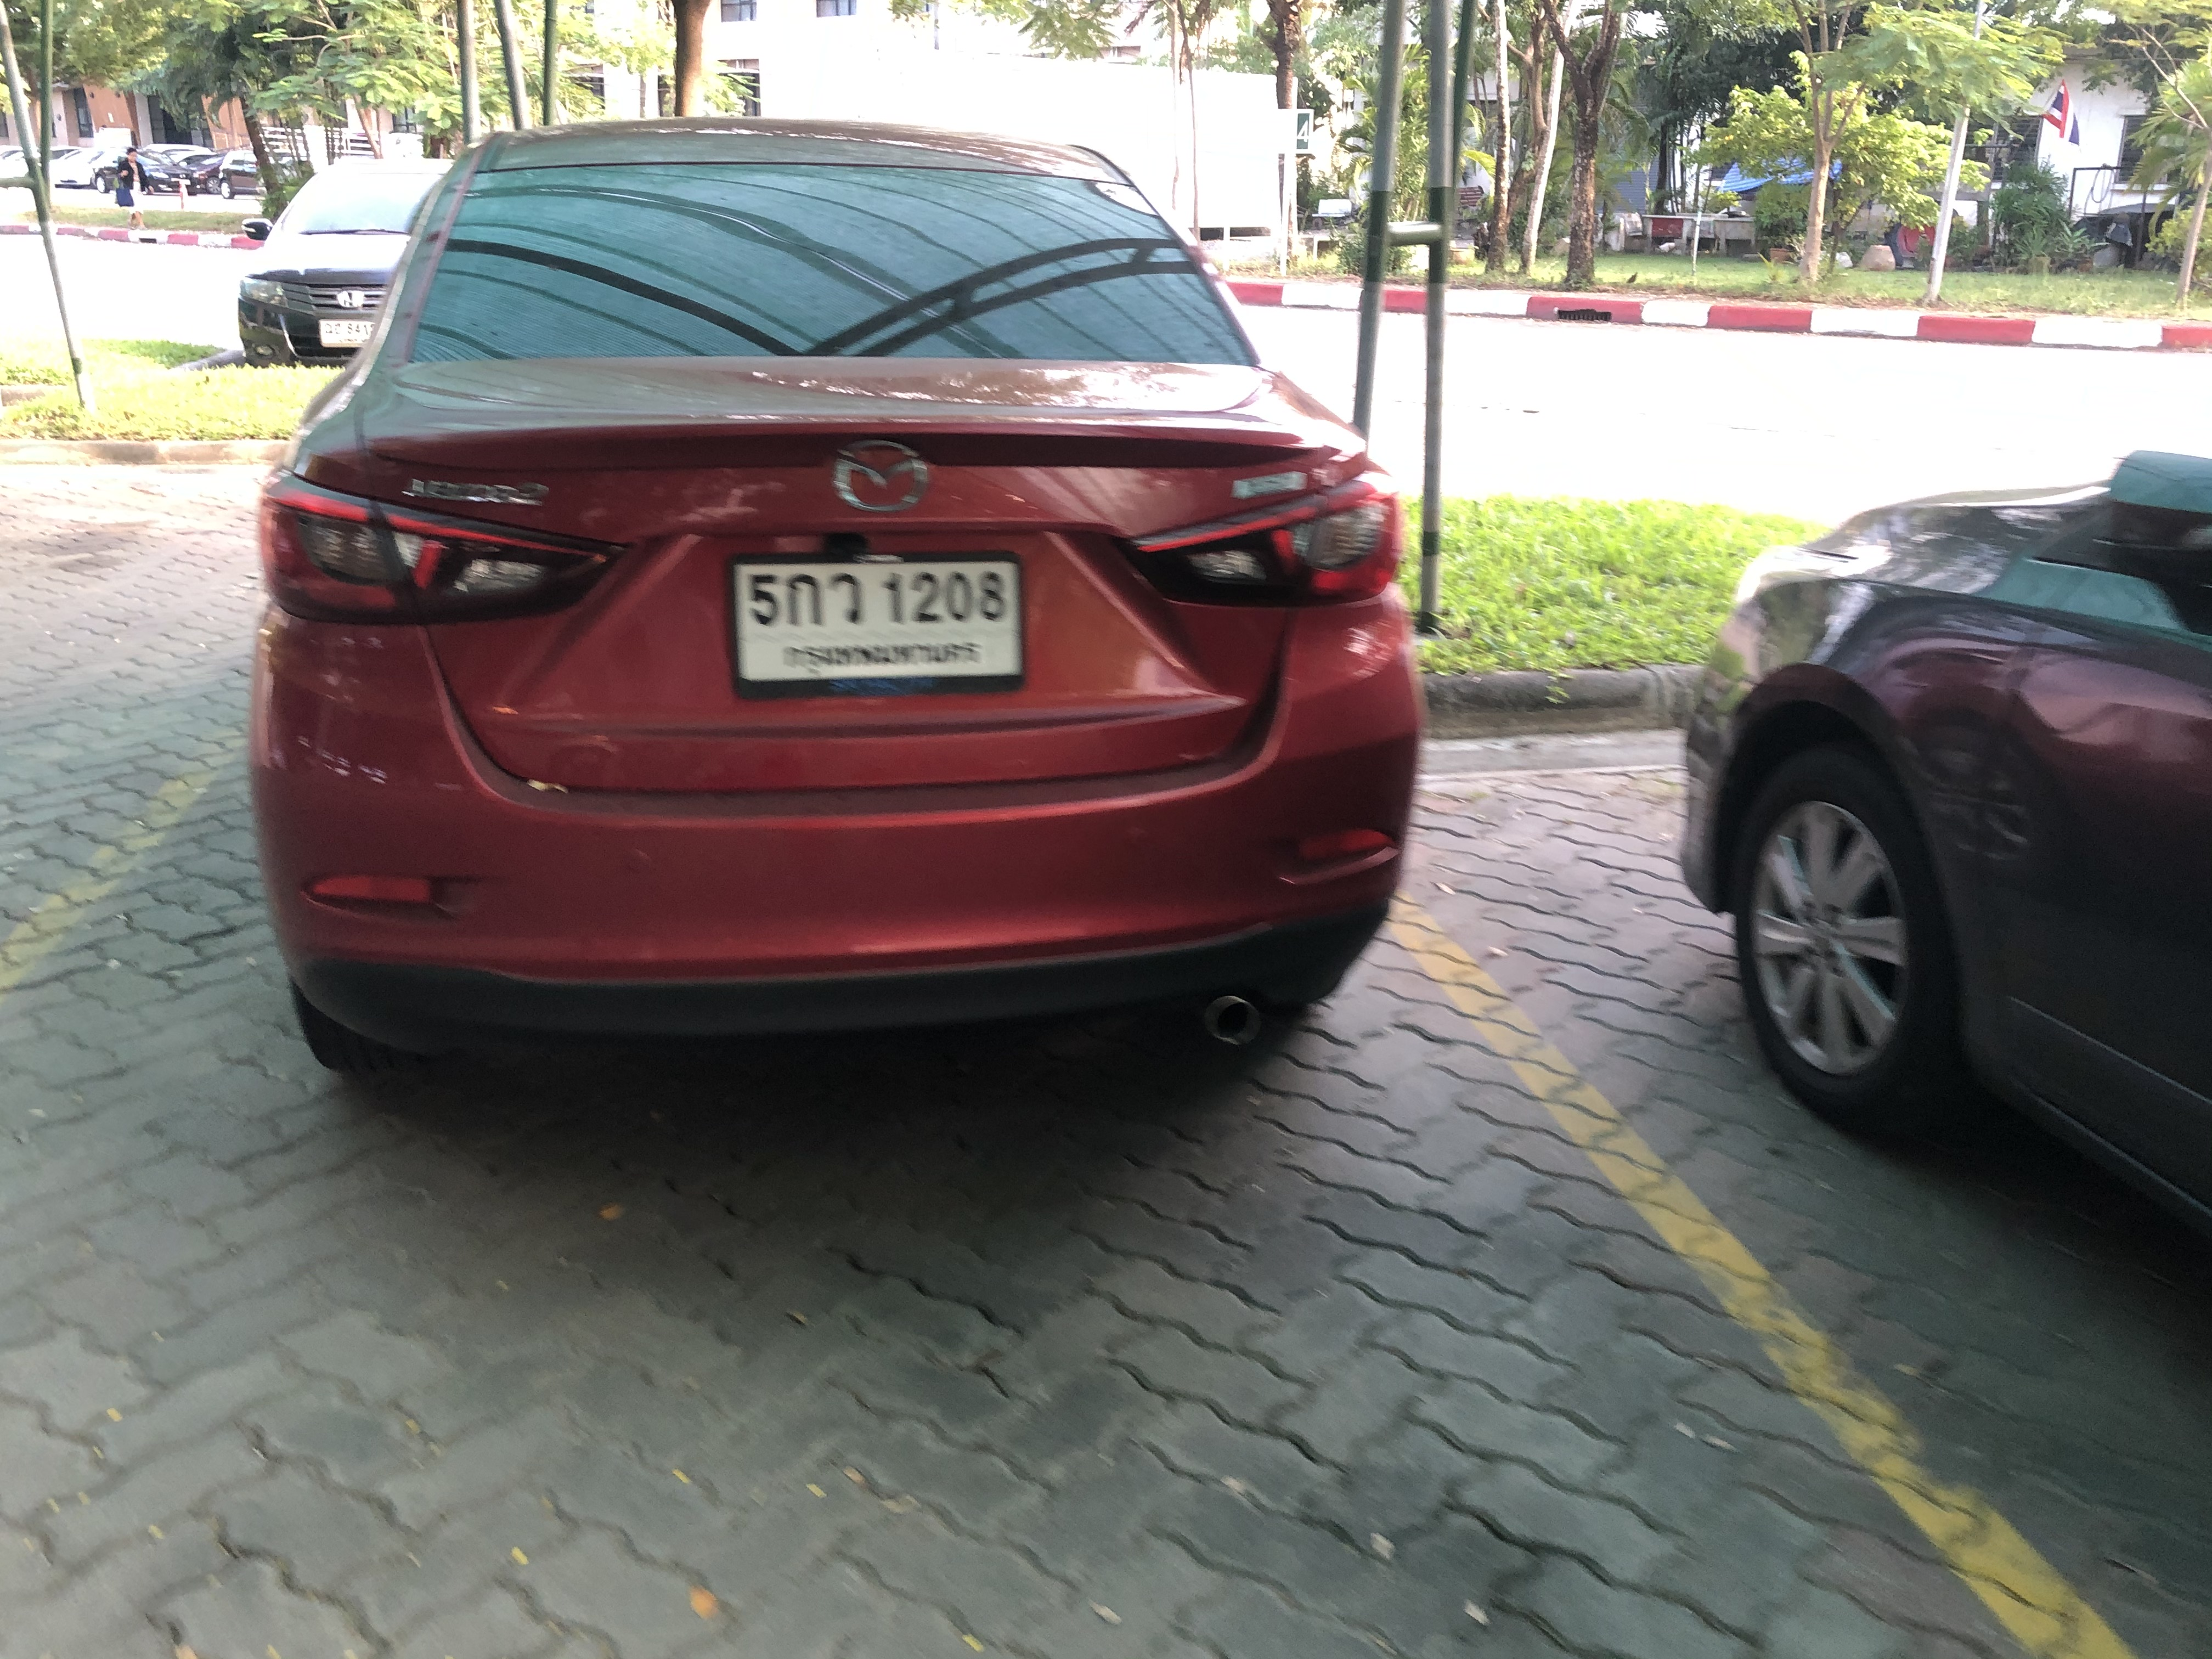in: (740, 568, 1017, 678)
out: (716, 552, 1035, 702)
